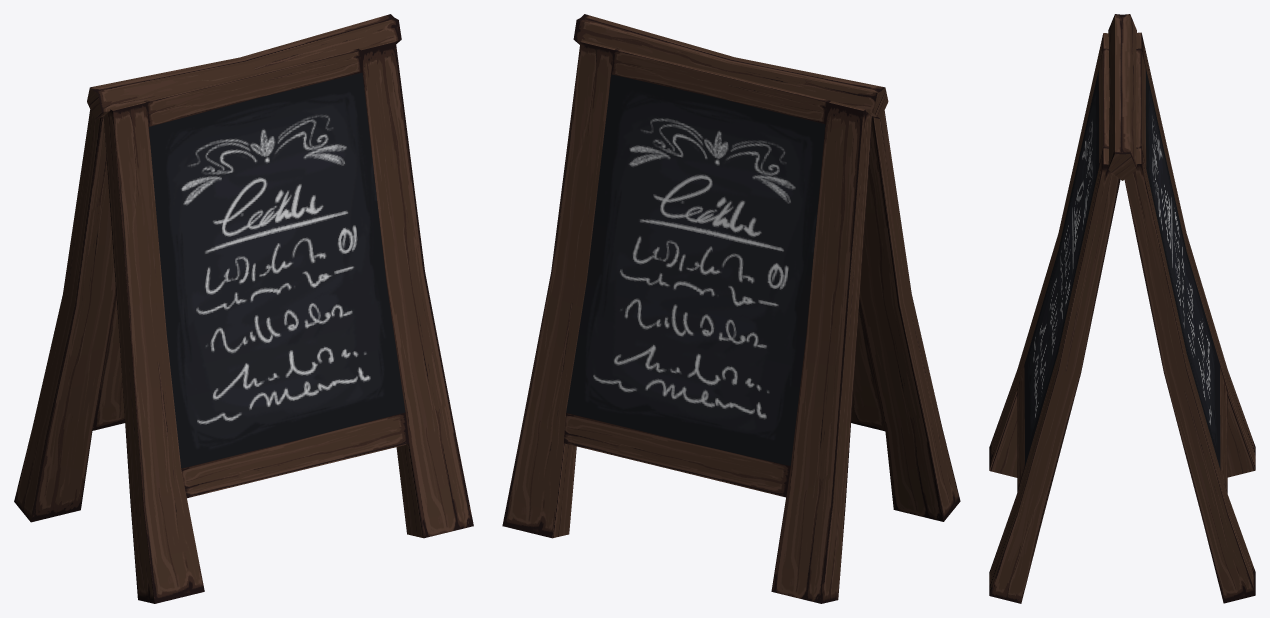
The model's file is SM_PROP_infoboard_city_01.fbx.
3 renders of one model, left to right at view 1: azimuth 30°, elevation 25°; view 2: azimuth 150°, elevation 25°; view 3: azimuth 270°, elevation 25°, orthographic. The views are drawn at different scales.
Parts seen in each view (by area): view 1: SM_PROP_infoboard_city_01; view 2: SM_PROP_infoboard_city_01; view 3: SM_PROP_infoboard_city_01.
Part boxes in pixels (box(x1,y1,x2,y2)): SM_PROP_infoboard_city_01: box(14, 14, 473, 603); SM_PROP_infoboard_city_01: box(502, 14, 960, 603); SM_PROP_infoboard_city_01: box(989, 14, 1255, 603).
Bounding box in the file's own units: 70.4 × 98.53 × 53.36.
